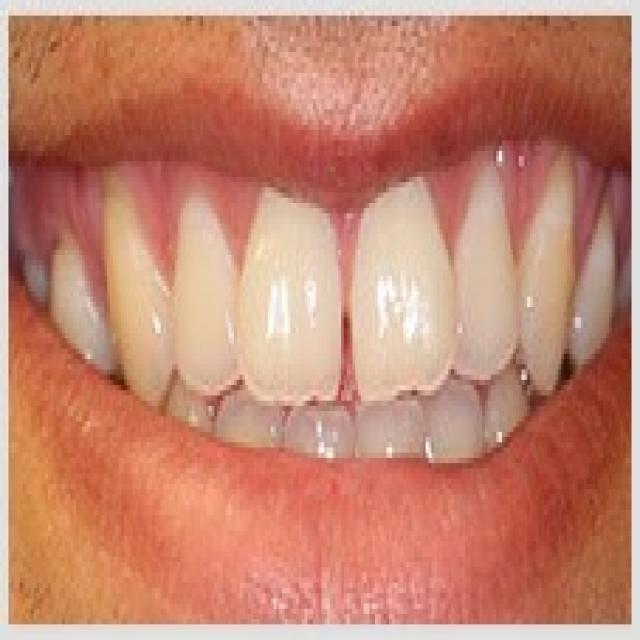tooth: (338, 156, 454, 406), (245, 177, 341, 421), (90, 182, 175, 401), (169, 192, 240, 400), (460, 182, 524, 385), (524, 161, 570, 380), (285, 411, 355, 474), (220, 401, 282, 463), (429, 390, 482, 458), (355, 411, 423, 463), (482, 380, 525, 447), (172, 385, 211, 427)
